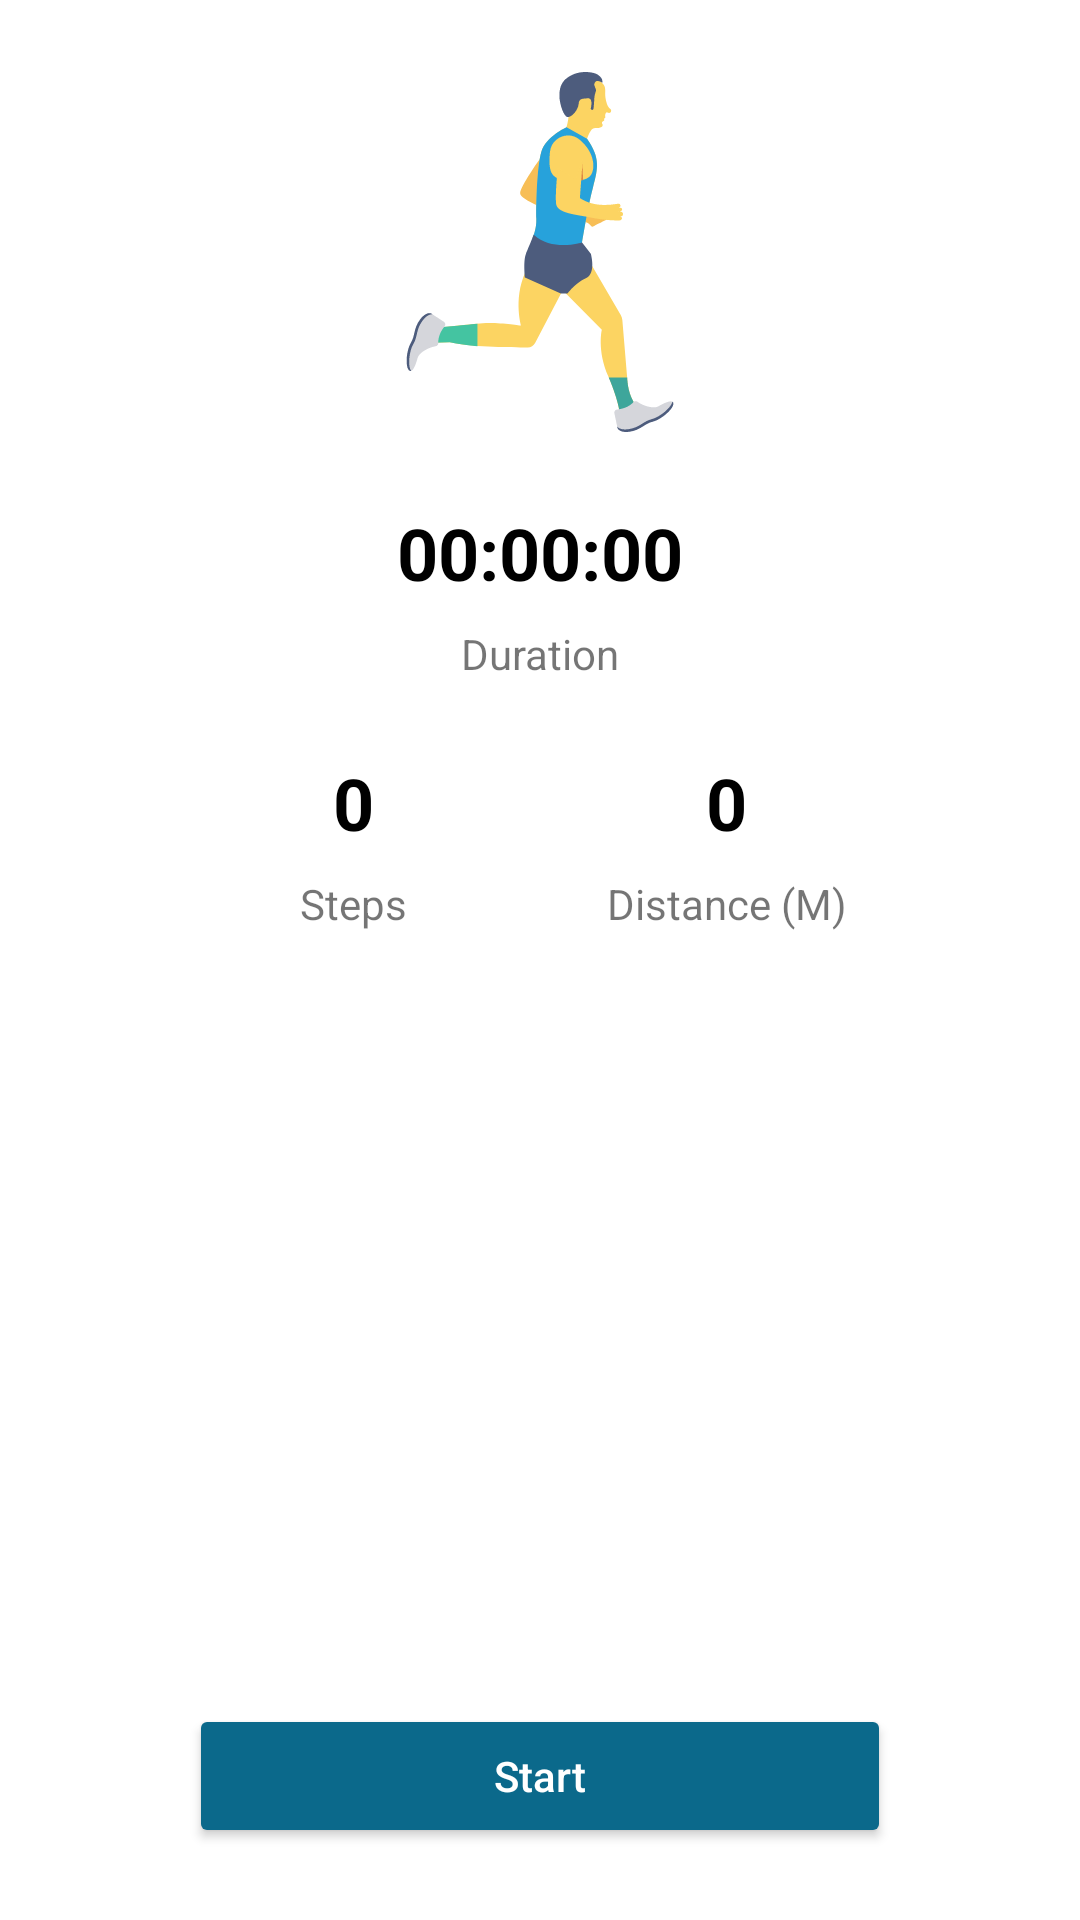

Point at icon controls on the screen. Image size 1080x1920, points as (x=x, y=y).
run: (x=540, y=252)
